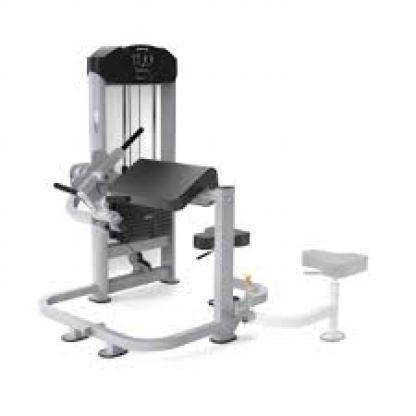arm curl machine: (37, 42, 368, 359)
